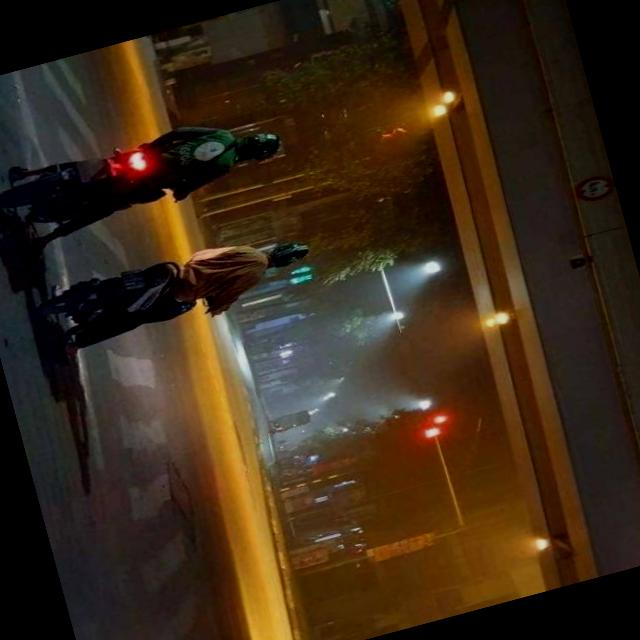Motobike: (0, 120, 208, 251), (19, 243, 232, 370)
